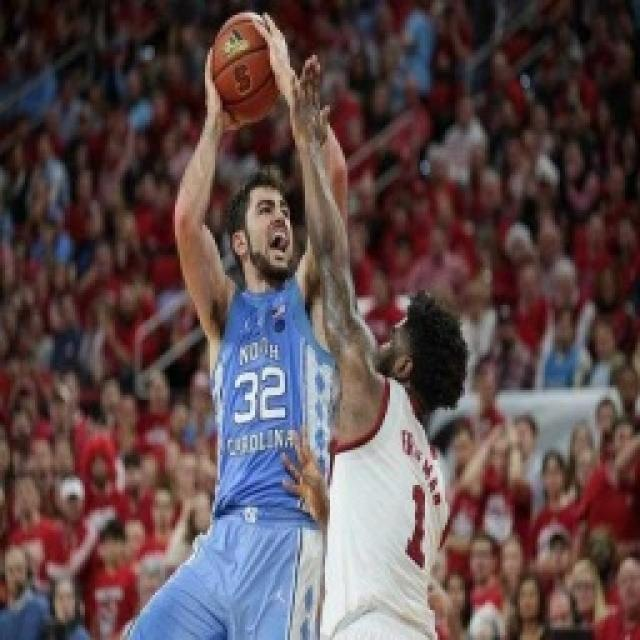rim: (202, 3, 288, 116)
